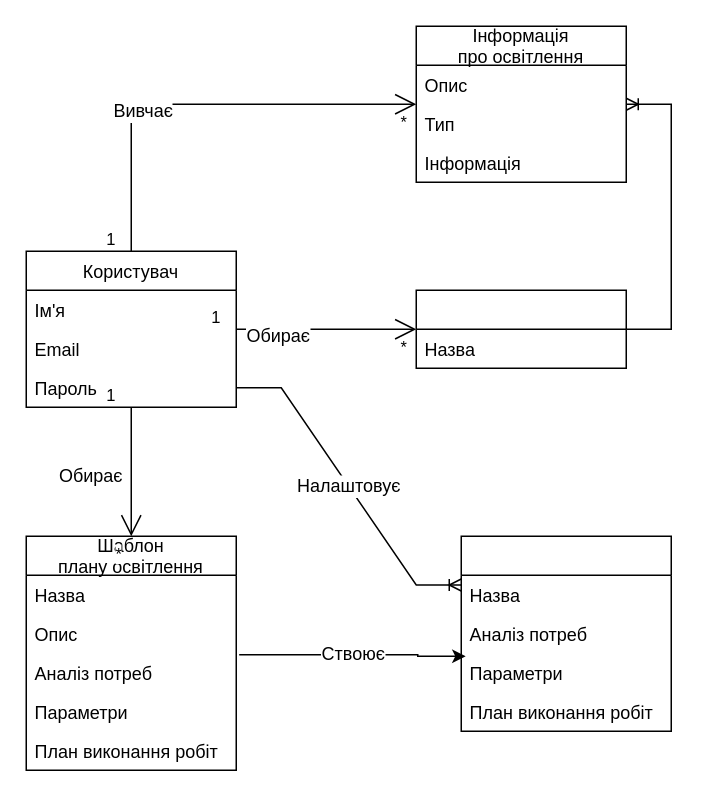
This 710x801 diagram has some shape labels left out. Here are the shapes that lost their labels. From the top down, the box of each, then its label:
(415, 289, 626, 368): Список тем
(460, 535, 671, 731): План освітлення
